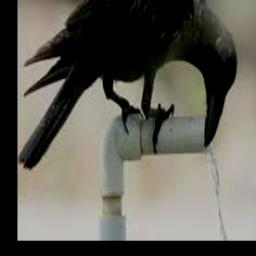Crow: (20, 0, 238, 169)
